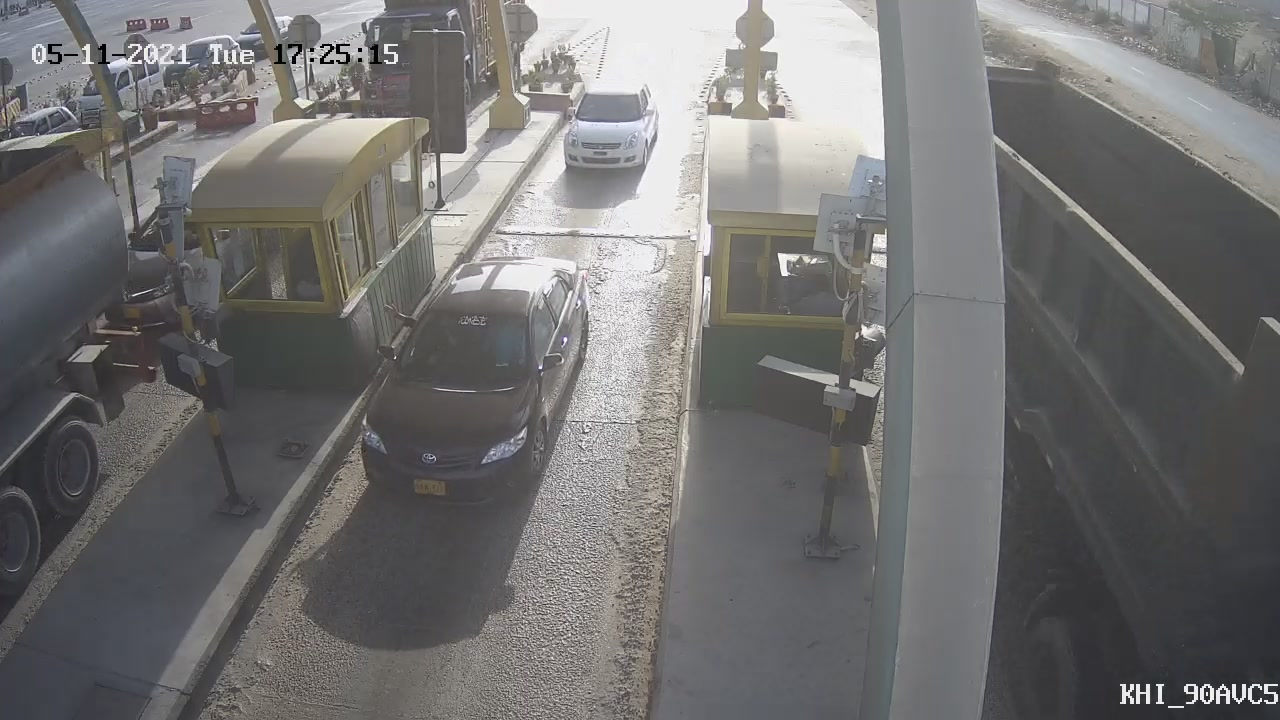F1: (333, 236, 607, 525), (543, 68, 676, 198)
